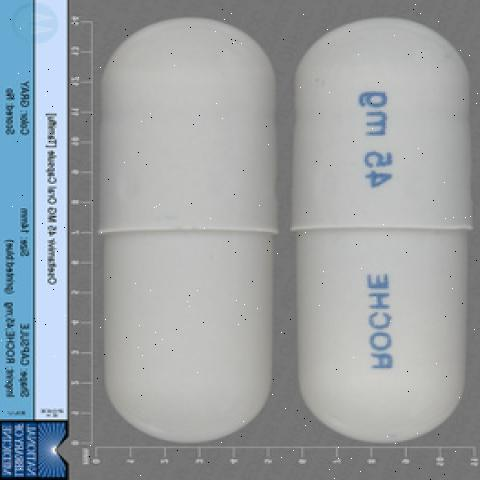Pill: (88, 11, 286, 452), (283, 17, 474, 461)
